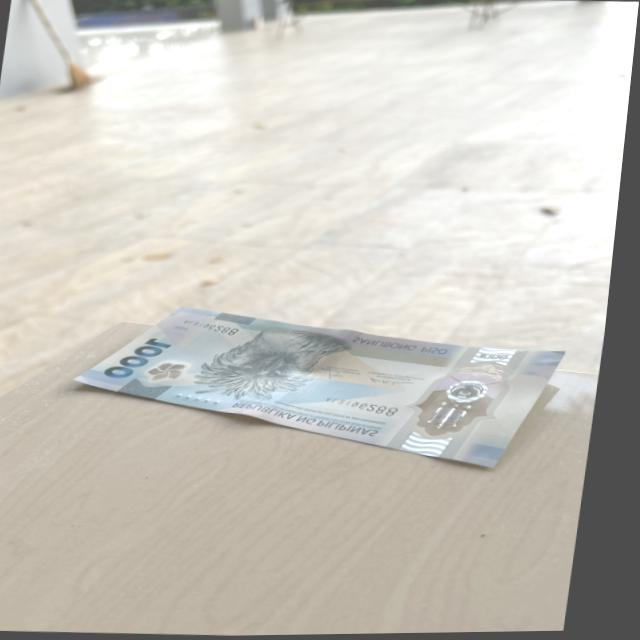clear_window: (415, 359, 520, 441)
eagle: (203, 328, 353, 406)
sampaguita: (152, 358, 198, 384)
